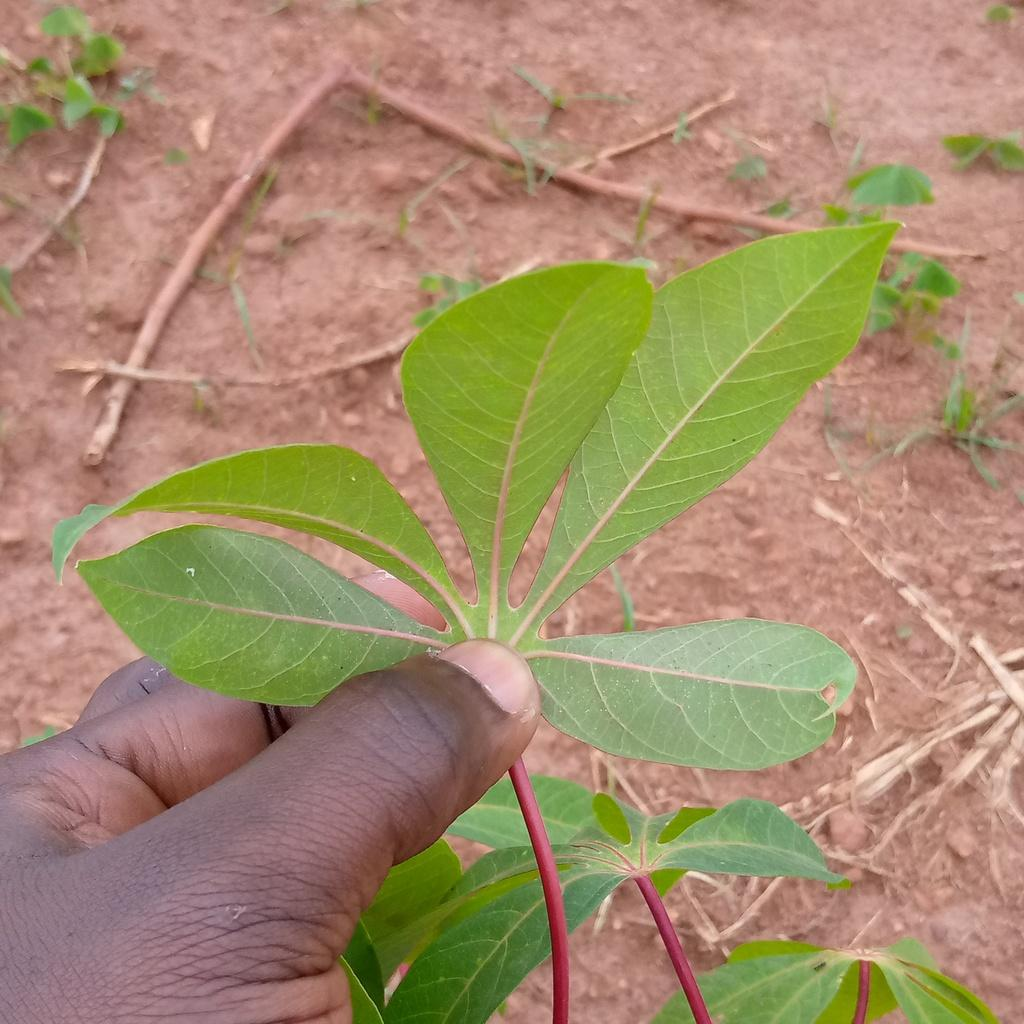adult: (187, 568, 195, 577), (351, 477, 355, 482)
